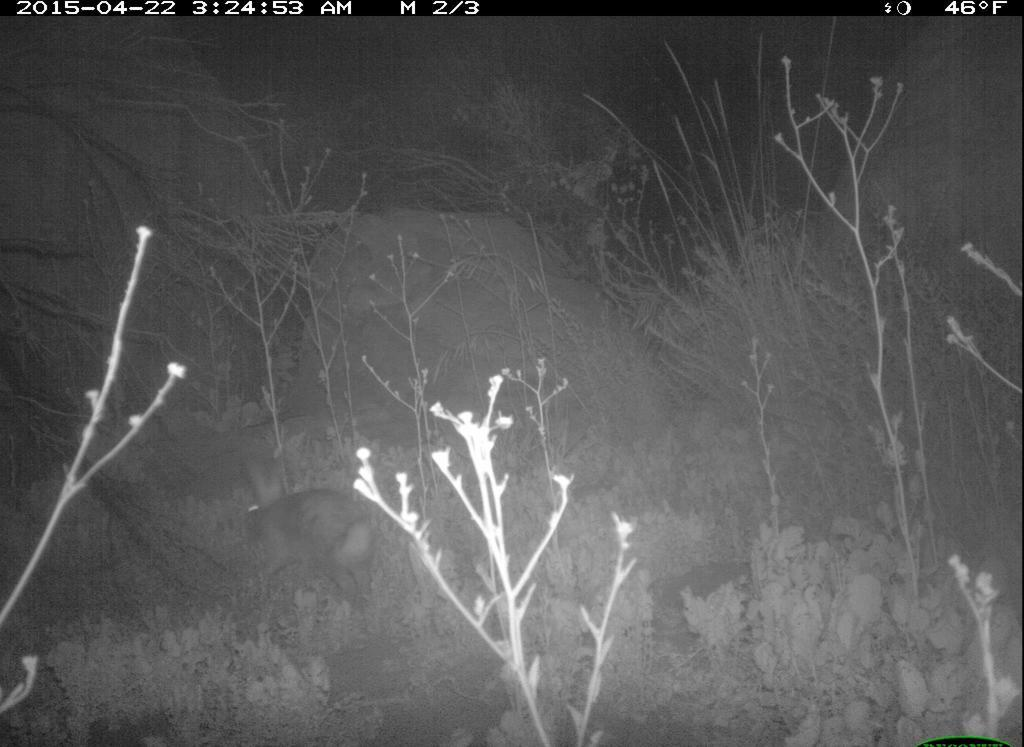rabbit: (227, 445, 393, 611)
